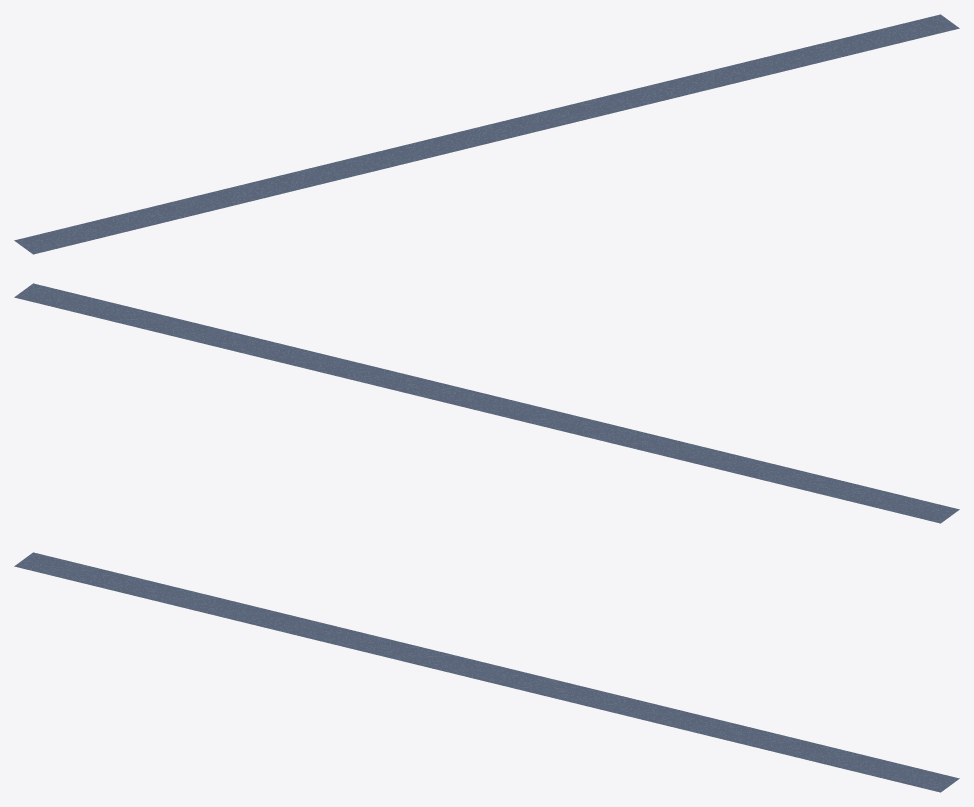
The model's file is kd_stage_135c43_4_42_bounded.glb.
3 renders of one model, top to bottom at view 1: azimuth 30°, elevation 25°; view 2: azimuth 150°, elevation 25°; view 3: azimuth 330°, elevation 25°, orthographic.
Visible parts, largest first — view 1: kd_stage_135c43_4_42_bounded; view 2: kd_stage_135c43_4_42_bounded; view 3: kd_stage_135c43_4_42_bounded.
Boxes of the visible parts, left/top/right/bottom form: kd_stage_135c43_4_42_bounded: left=14, top=14, right=959, bottom=254; kd_stage_135c43_4_42_bounded: left=14, top=283, right=959, bottom=523; kd_stage_135c43_4_42_bounded: left=14, top=552, right=959, bottom=792.
Bounding box in the file's own units: 3.97 × 0.000148 × 0.1427.
1 material, 1 textured.
